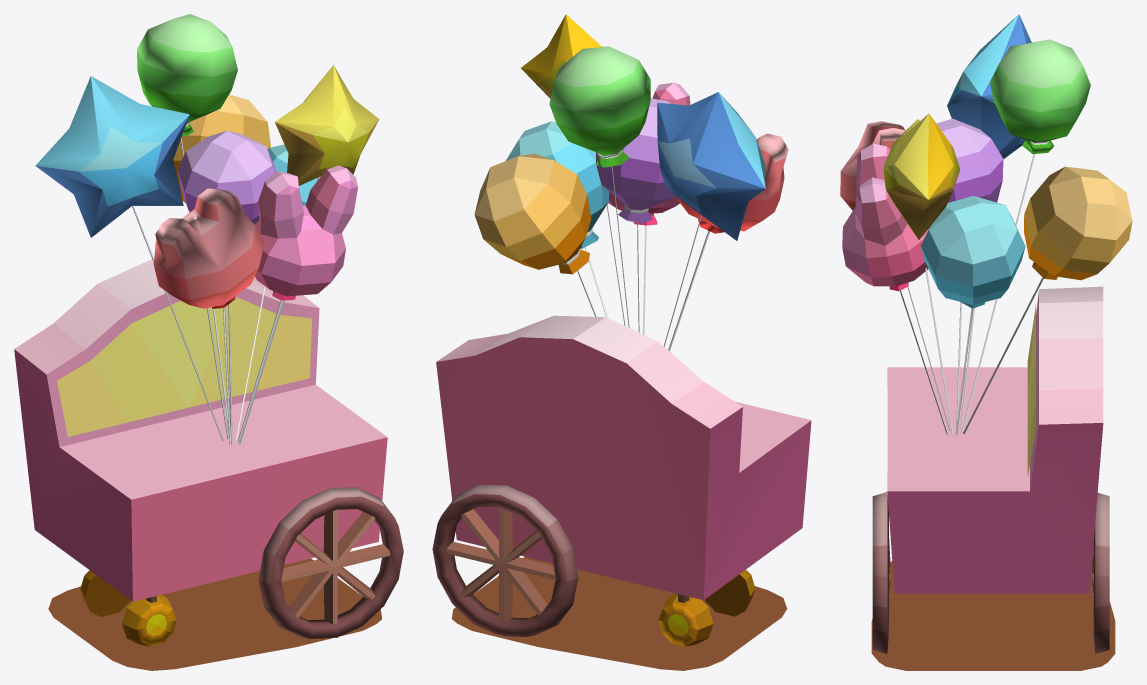
The model's file is barrier_006.fbx.
3 renders of one model, left to right at view 1: azimuth 30°, elevation 25°; view 2: azimuth 150°, elevation 25°; view 3: azimuth 270°, elevation 25°, orthographic.
Visible parts, largest first — view 1: pPlane2; view 2: pPlane2; view 3: pPlane2.
Part boxes in pixels (x1=…): pPlane2: x1=14, y1=14, x2=403, y2=670; pPlane2: x1=432, y1=14, x2=811, y2=670; pPlane2: x1=840, y1=14, x2=1132, y2=670.
Size of the model in its own units: 162 by 302 by 140.
